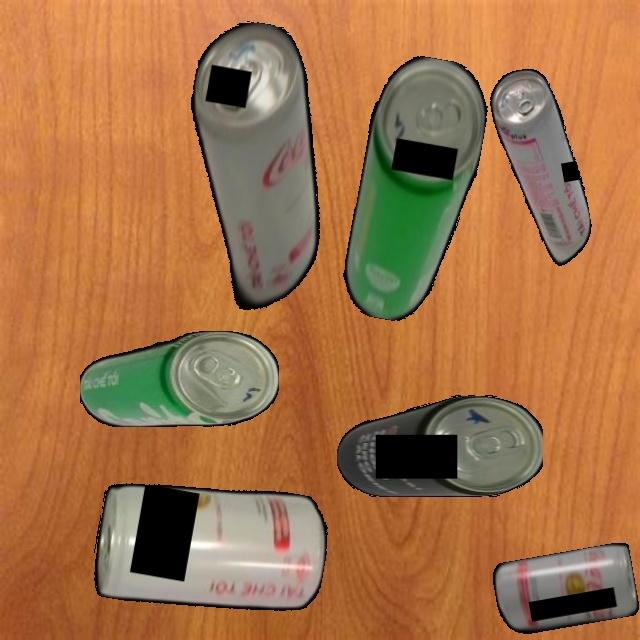debris: (155, 14, 354, 333), (337, 50, 495, 330), (87, 462, 335, 633), (486, 63, 597, 272), (336, 395, 543, 497), (79, 331, 279, 427), (491, 541, 640, 638)
